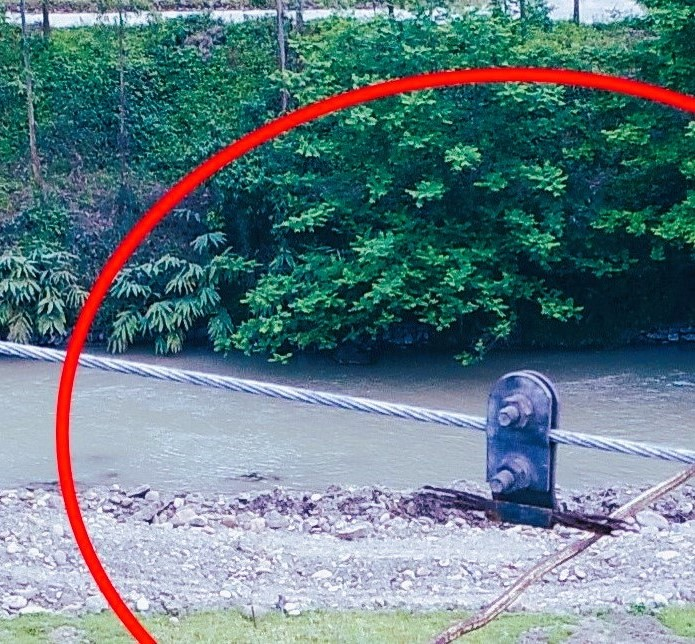Damage of shockproof hammer: (405, 364, 637, 551)
